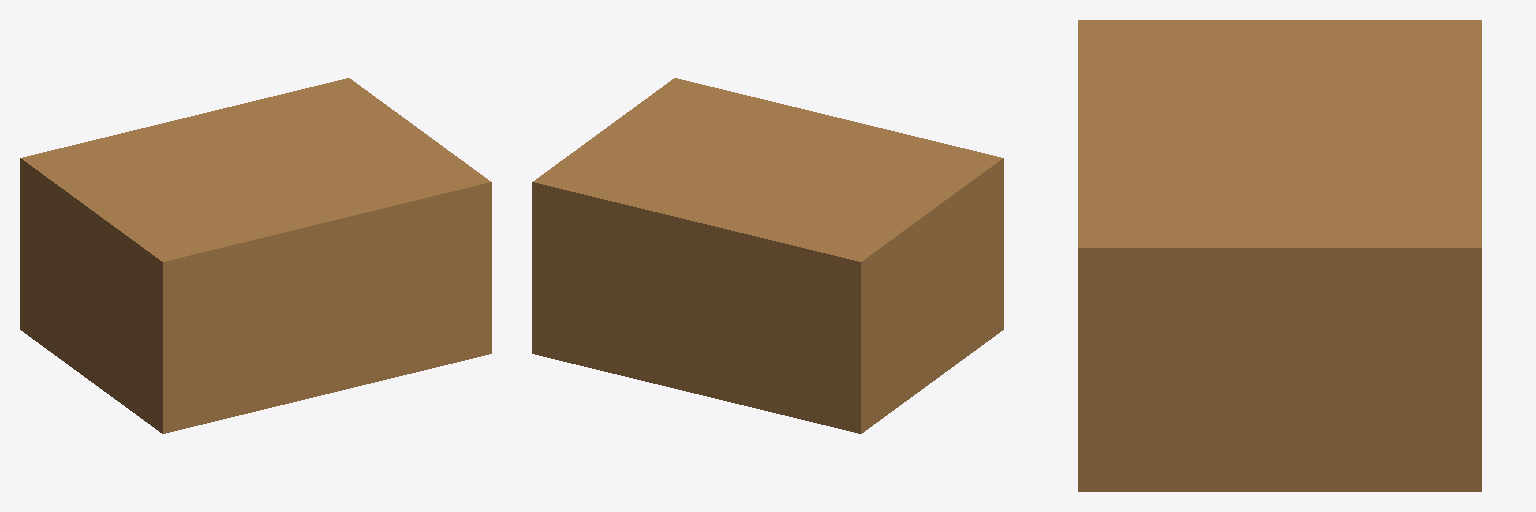
URDF robot description (cb_boxflip_m150_c0):
<?xml version="1.0"?>
<!-- A29 box flip. Generated by FoundationTouch tools/contactbench/boxflip_tasks.py -->
<robot name="cb_boxflip_m150_c0">
  <material name="c"><color rgba="0.72 0.55 0.35 1.0"/></material>
  <link name="object">
    <visual><origin xyz="0 0 0" rpy="0 0 0"/><geometry><box size="0.12 0.09 0.06"/></geometry><material name="c"/></visual>
    <collision><origin xyz="0 0 0" rpy="0 0 0"/><geometry><box size="0.12 0.09 0.06"/></geometry></collision>
    <inertial><mass value="0.150000"/><origin xyz="0.0000 0 0" rpy="0 0 0"/><inertia ixx="1.462500e-04" ixy="0" ixz="0" iyy="2.250000e-04" iyz="0" izz="2.812500e-04"/></inertial>
  </link>
</robot>

--- Facts derived from the render (not from the file) ---
Views: 3 orthographic renders of the robot side by side, from view 1: azimuth 30°, elevation 25°; view 2: azimuth 150°, elevation 25°; view 3: azimuth 270°, elevation 25°.
Robot: cb_boxflip_m150_c0 — 1 links, 0 joints (none); root link object; default pose: all joints at 0.
Visible links, largest first — view 1: object; view 2: object; view 3: object.
Boxes of the visible links, left/top/right/bottom form: object: left=20, top=78, right=491, bottom=433; object: left=532, top=78, right=1003, bottom=433; object: left=1078, top=20, right=1481, bottom=491.
Size in the robot's own frame: 0.12 by 0.09 by 0.06 metres.
Geometry: primitives only (box / cylinder / sphere), no mesh files.
